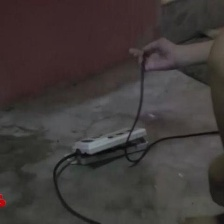three_eye_plug: (60, 122, 151, 169)
